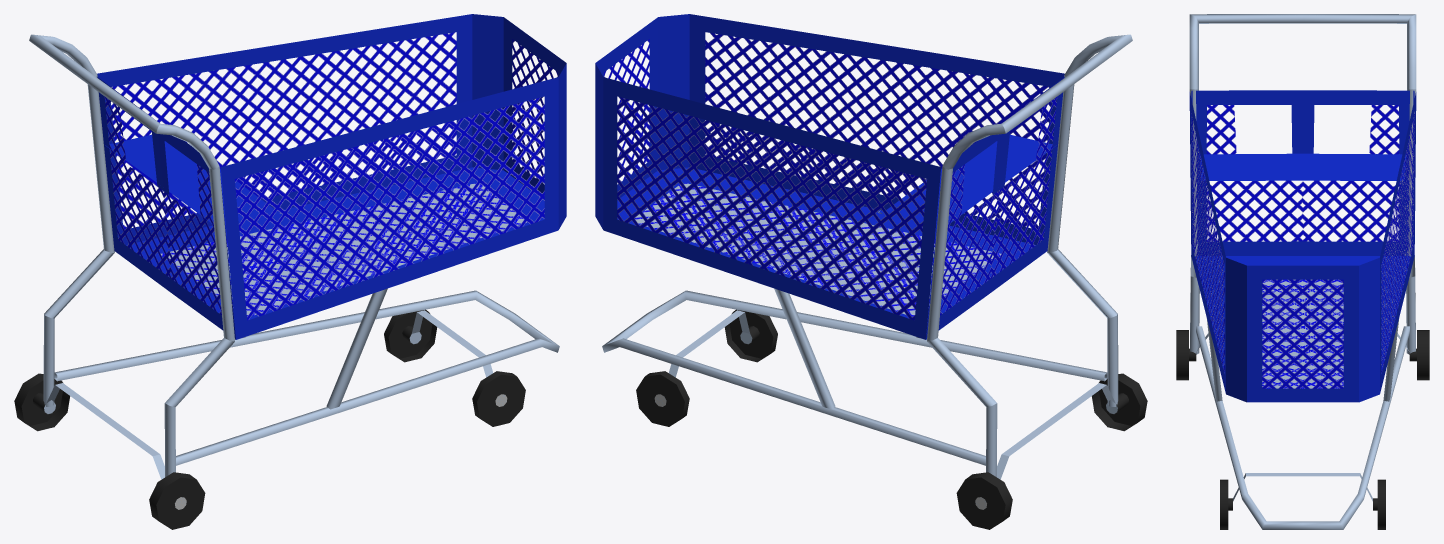
3 renders of one model, left to right at view 1: azimuth 30°, elevation 25°; view 2: azimuth 150°, elevation 25°; view 3: azimuth 270°, elevation 25°, orthographic. The views are drawn at different scales.
Visible parts, largest first — view 1: SketchUp (×10), instance_1, instance_0, instance_3, instance_2; view 2: SketchUp (×10), instance_3, instance_2, instance_1, instance_0; view 3: SketchUp (×11), instance_1, instance_3, instance_0, instance_2.
Boxes of the visible parts, x1,y1,x2,y2 form: SketchUp (×10): [29, 14, 566, 477]; instance_1: [149, 472, 205, 529]; instance_0: [472, 371, 525, 426]; instance_3: [14, 373, 70, 431]; instance_2: [384, 309, 437, 362]; SketchUp (×10): [595, 14, 1132, 477]; instance_3: [956, 472, 1012, 529]; instance_2: [636, 371, 689, 426]; instance_1: [1091, 373, 1147, 431]; instance_0: [724, 309, 777, 362]; SketchUp (×11): [1189, 14, 1416, 529]; instance_1: [1176, 330, 1188, 380]; instance_3: [1417, 330, 1429, 380]; instance_0: [1220, 479, 1228, 529]; instance_2: [1377, 479, 1385, 529].
Bounding box in the file's own units: 45.45 × 24.71 × 38.28.
